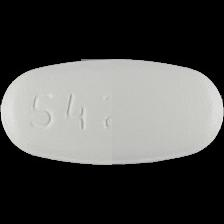0054-0198: (0, 0, 224, 224)
